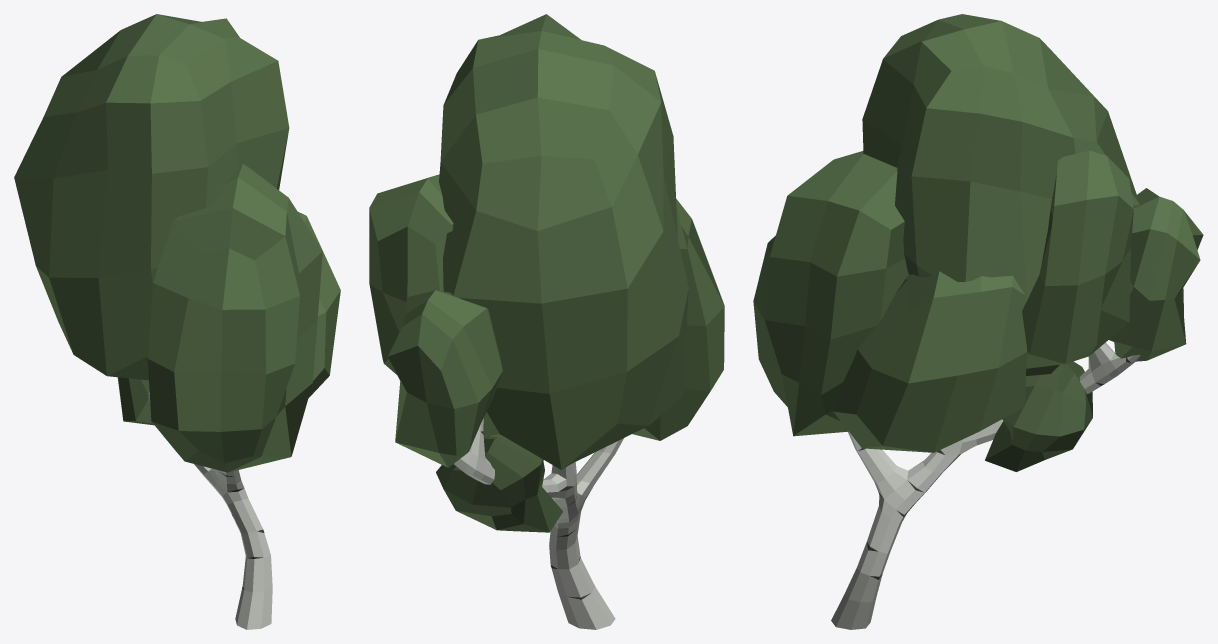
The model's file is birch1.gltf.
The picture shows the model from 3 angles, left to right: view 1: azimuth 30°, elevation 25°; view 2: azimuth 150°, elevation 25°; view 3: azimuth 270°, elevation 25°; orthographic projection. The views are drawn at different scales.
Parts seen in each view (by area): view 1: birch1; view 2: birch1; view 3: birch1.
Part boxes in pixels (x1=…): birch1: x1=14, y1=14, x2=340, y2=629; birch1: x1=369, y1=14, x2=724, y2=629; birch1: x1=753, y1=14, x2=1203, y2=629.
Size of the model in its own units: 1.7 by 3.57 by 2.48.
